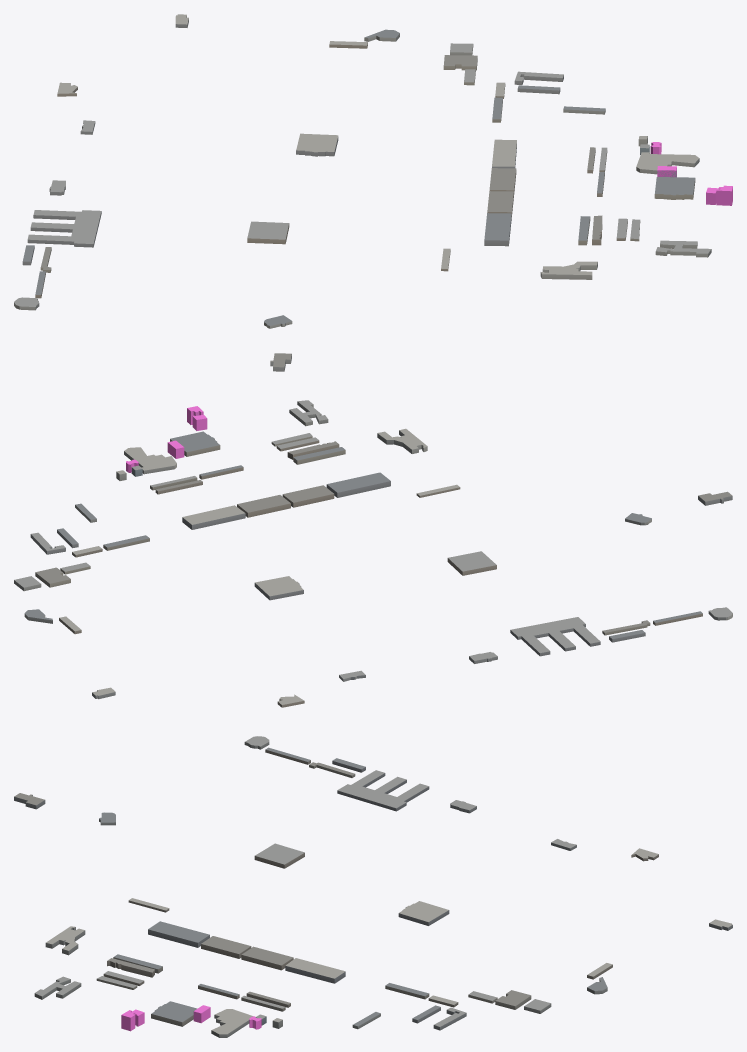
The model's file is bld_10_8.fbx.
The picture shows the model from 3 angles, top to bottom: view 1: azimuth 30°, elevation 25°; view 2: azimuth 150°, elevation 25°; view 3: azimuth 270°, elevation 25°; orthographic projection. The views are drawn at different scales.
Visible parts, largest first — view 1: bld_10_8_LOD0, bld_10_8_COL; view 2: bld_10_8_LOD0, bld_10_8_COL; view 3: bld_10_8_LOD0, bld_10_8_COL.
Part boxes in pixels (x1,y1,x2,y2): bld_10_8_LOD0: (14,14,711,371); bld_10_8_COL: (650,142,732,205); bld_10_8_LOD0: (14,400,732,707); bld_10_8_COL: (126,406,207,472); bld_10_8_LOD0: (14,736,732,1037); bld_10_8_COL: (121,1005,261,1031).
Size of what is drawn, in the model's own units: 1942 by 41.12 by 1977.
